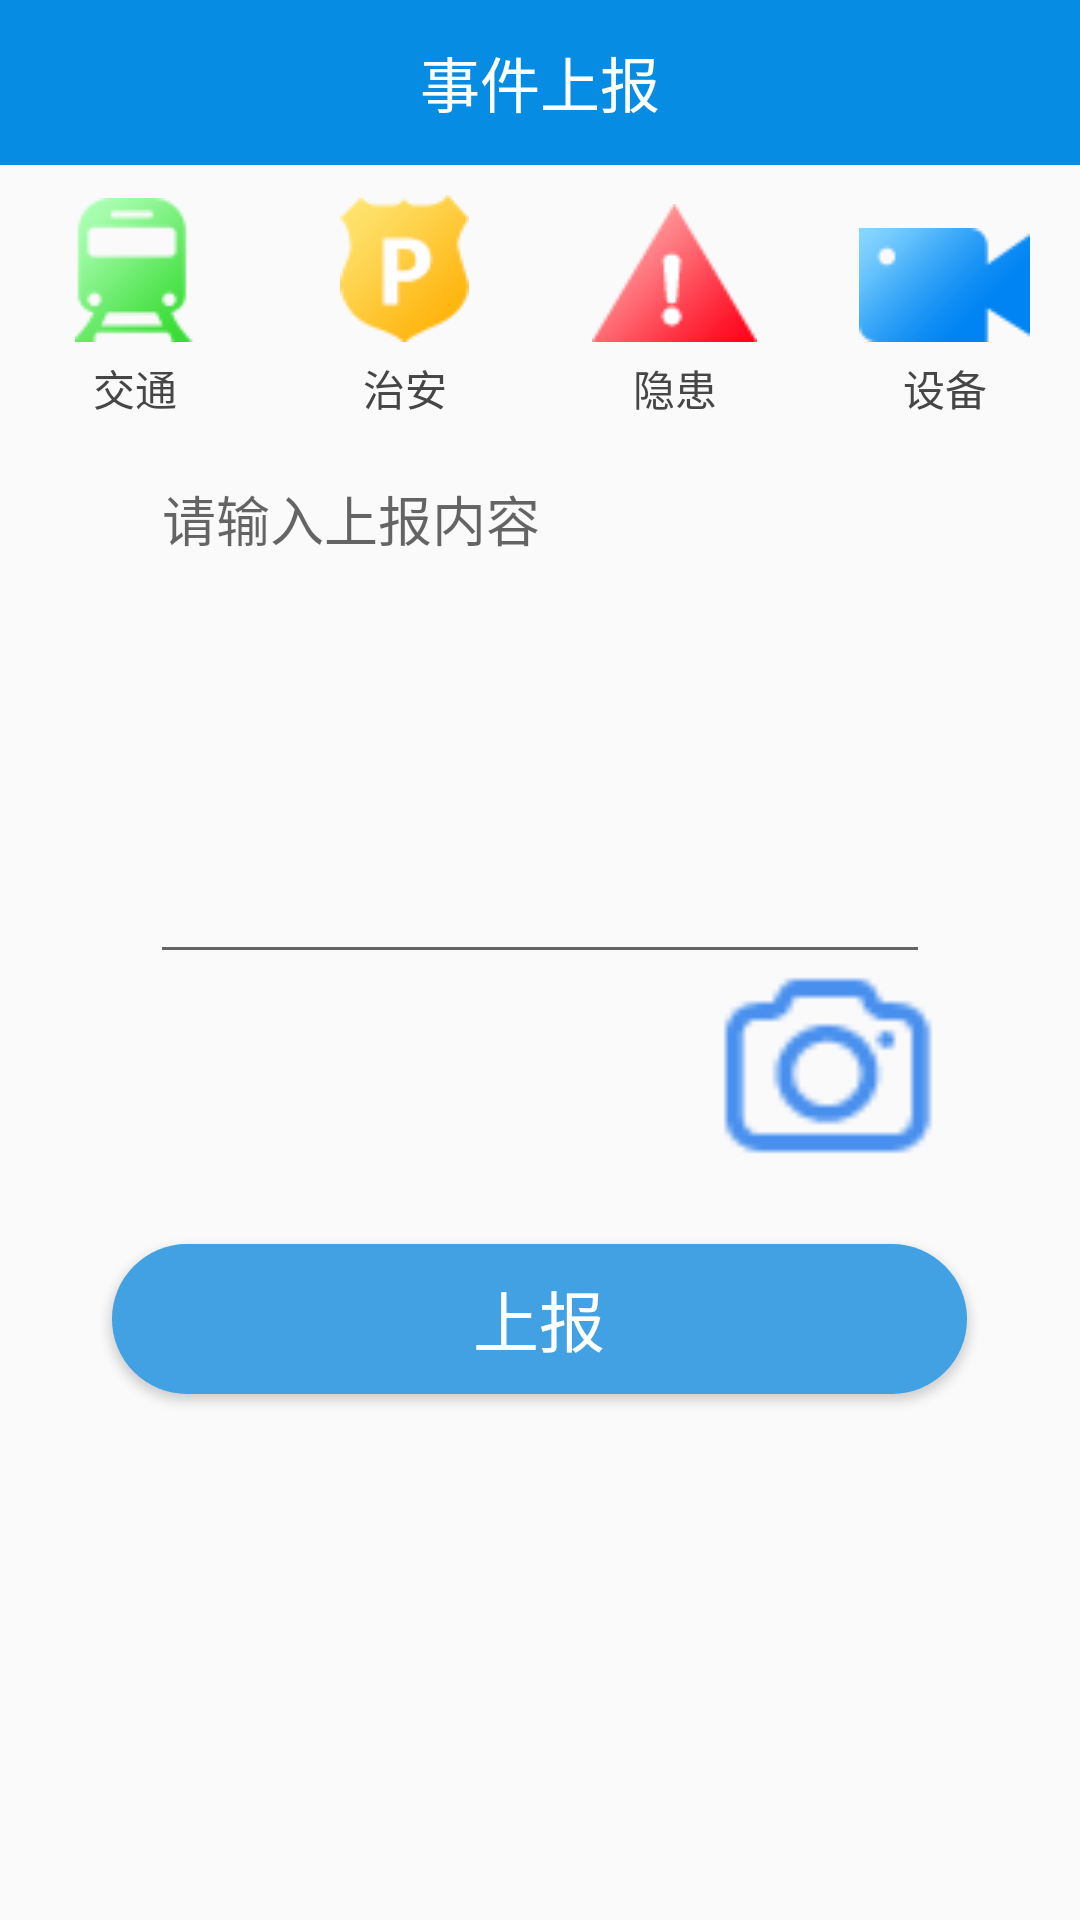

Screen size 1080px x 1920px. Icon name, then its box in pixels as (left=x1, top=y1, right=x2, bottom=y2):
camera: (left=724, top=978, right=932, bottom=1153)
